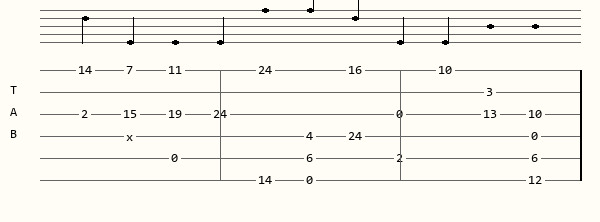0: (171, 152, 182, 164), (306, 174, 317, 186), (396, 108, 407, 120), (531, 130, 542, 142)
10: (438, 64, 456, 76), (528, 108, 546, 120)
11: (168, 64, 186, 76)
12: (528, 174, 546, 186)
13: (483, 108, 501, 120)
14: (78, 64, 96, 76), (258, 174, 276, 186)
15: (123, 108, 141, 120)
16: (348, 64, 366, 76)
19: (168, 108, 186, 120)
2: (81, 108, 92, 120), (396, 152, 407, 164)
24: (213, 108, 231, 120), (258, 64, 276, 76), (348, 130, 366, 142)
3: (486, 86, 497, 98)
4: (306, 130, 317, 142)
6: (306, 152, 317, 164), (531, 152, 542, 164)
7: (126, 64, 137, 76)
x: (126, 131, 137, 141)
